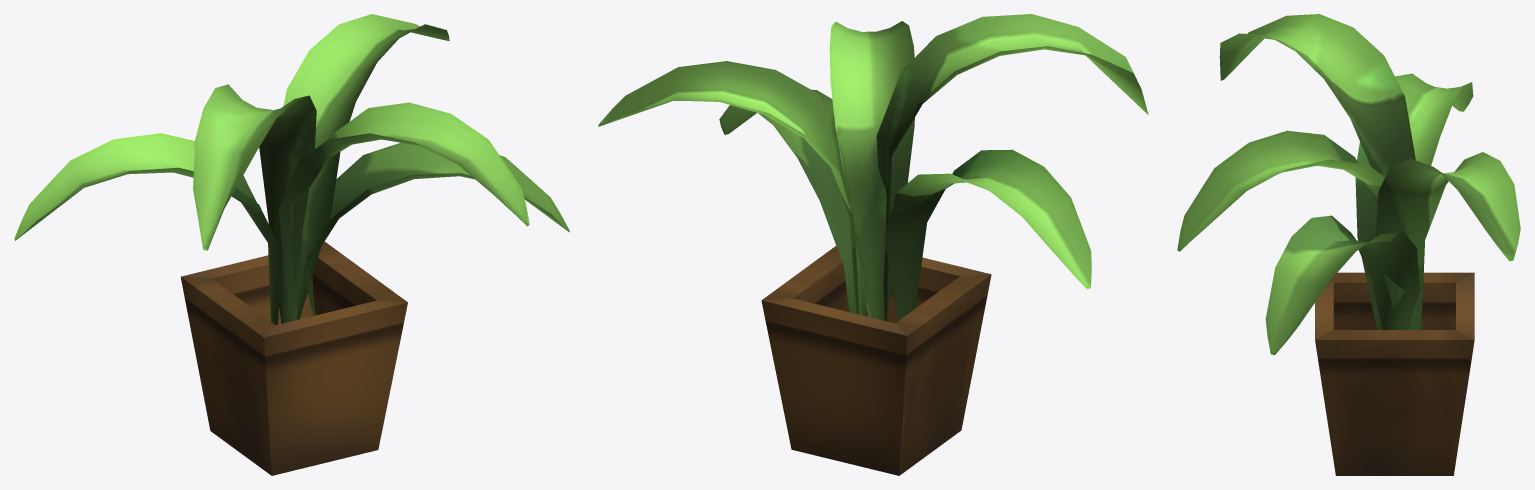
The model's file is Tx_props_Uni_plant.fbx.
3 views of the same model, side by side, from view 1: azimuth 30°, elevation 25°; view 2: azimuth 150°, elevation 25°; view 3: azimuth 270°, elevation 25° (orthographic). The views are drawn at different scales.
Visible parts, largest first — view 1: Tx_props_Uni_plant; view 2: Tx_props_Uni_plant; view 3: Tx_props_Uni_plant.
Boxes of the visible parts, box(x1,y1,x2,y2) form: Tx_props_Uni_plant: box(14, 14, 569, 475); Tx_props_Uni_plant: box(598, 14, 1148, 475); Tx_props_Uni_plant: box(1177, 14, 1520, 475).
Bounding box in the file's own units: 6.66 × 5.42 × 4.49.
